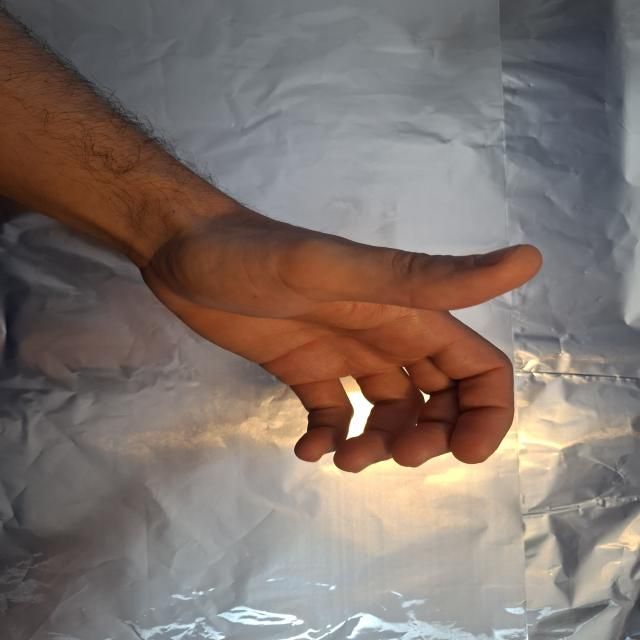glove_off: (129, 196, 546, 476)
